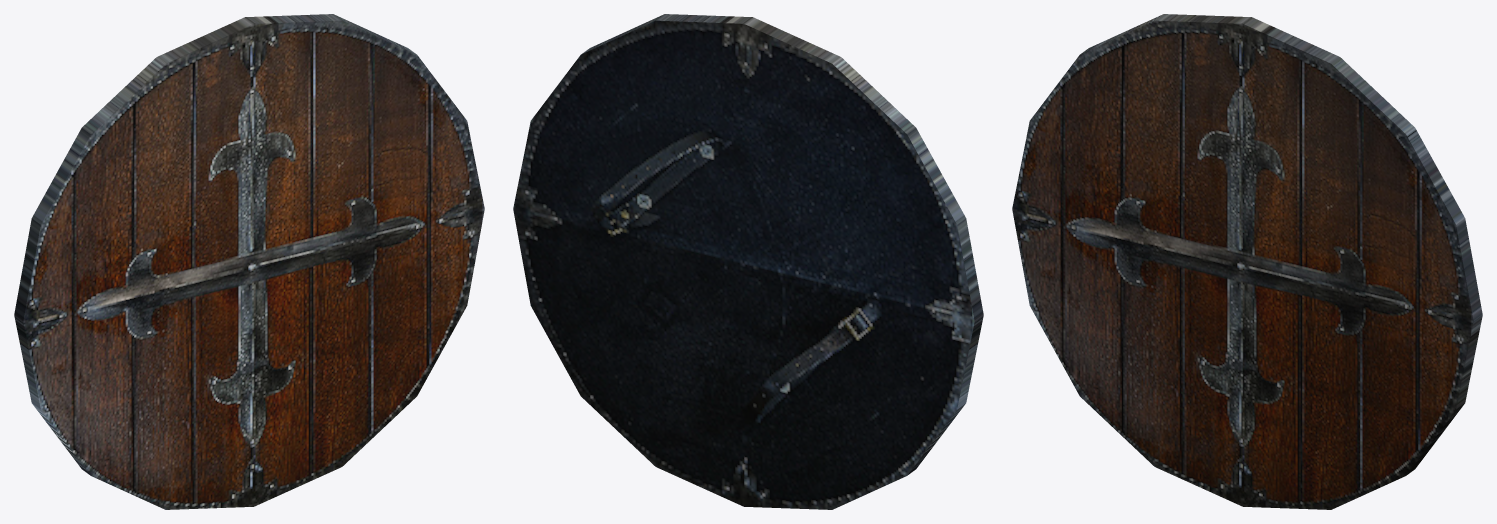
Rendered from Wooden Shield.fbx.
3 renders of one model, left to right at view 1: azimuth 30°, elevation 25°; view 2: azimuth 150°, elevation 25°; view 3: azimuth 330°, elevation 25°, orthographic.
Visible parts, largest first — view 1: Wooden Shield; view 2: Wooden Shield; view 3: Wooden Shield.
Part boxes in pixels (left/top/right/bottom): Wooden Shield: left=14, top=14, right=484, bottom=509; Wooden Shield: left=513, top=14, right=983, bottom=509; Wooden Shield: left=1012, top=14, right=1482, bottom=509.
Bounding box in the file's own units: 0.601 × 0.601 × 0.0206.
